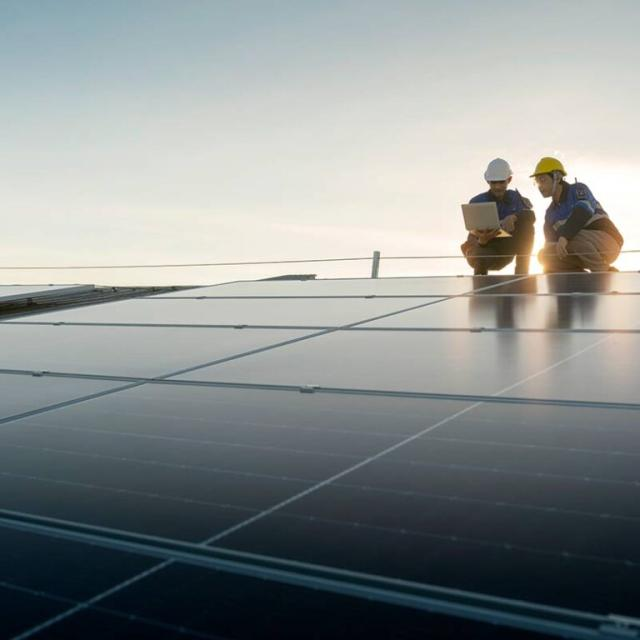clean-solar-panel: (1, 274, 640, 640)
